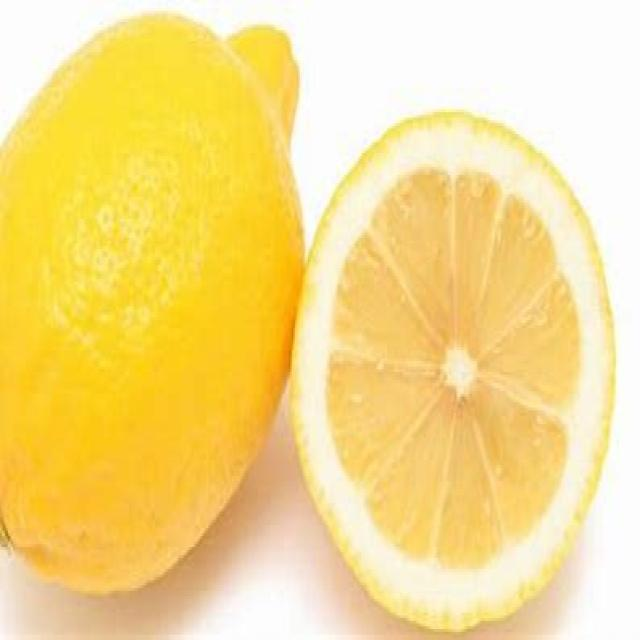lemon: (0, 2, 320, 605), (299, 100, 635, 624)
